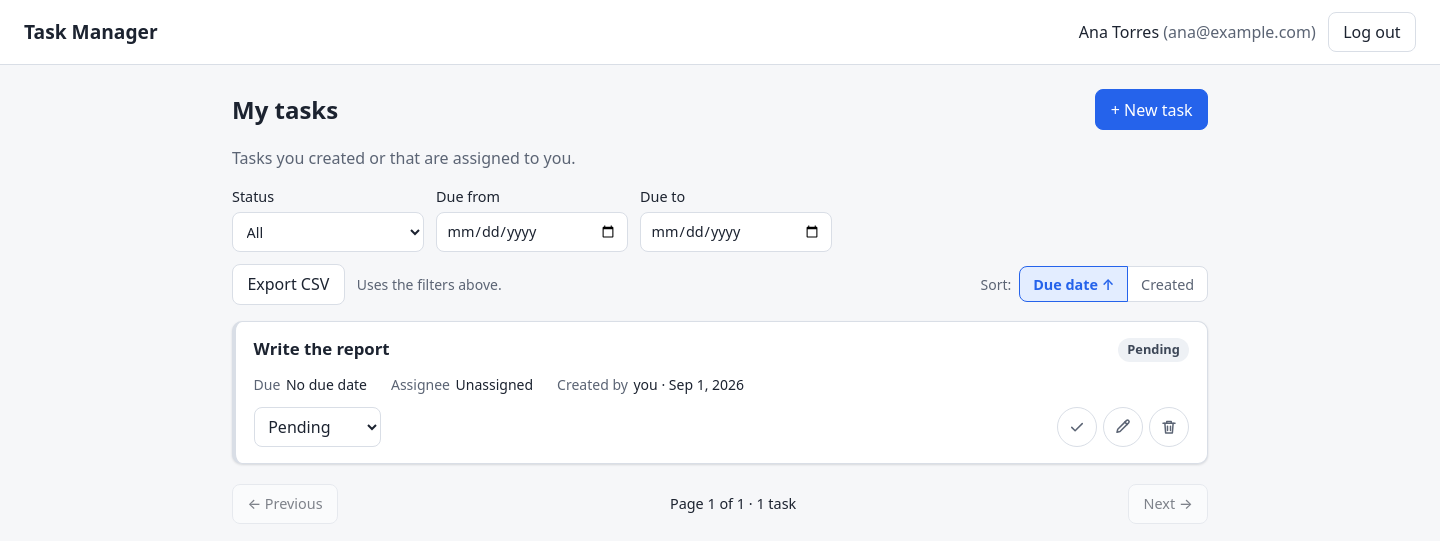
Test case: export polling › keeps polling after a failed status request
Click the button "Export CSV": (288,284) [232,264,345,305]
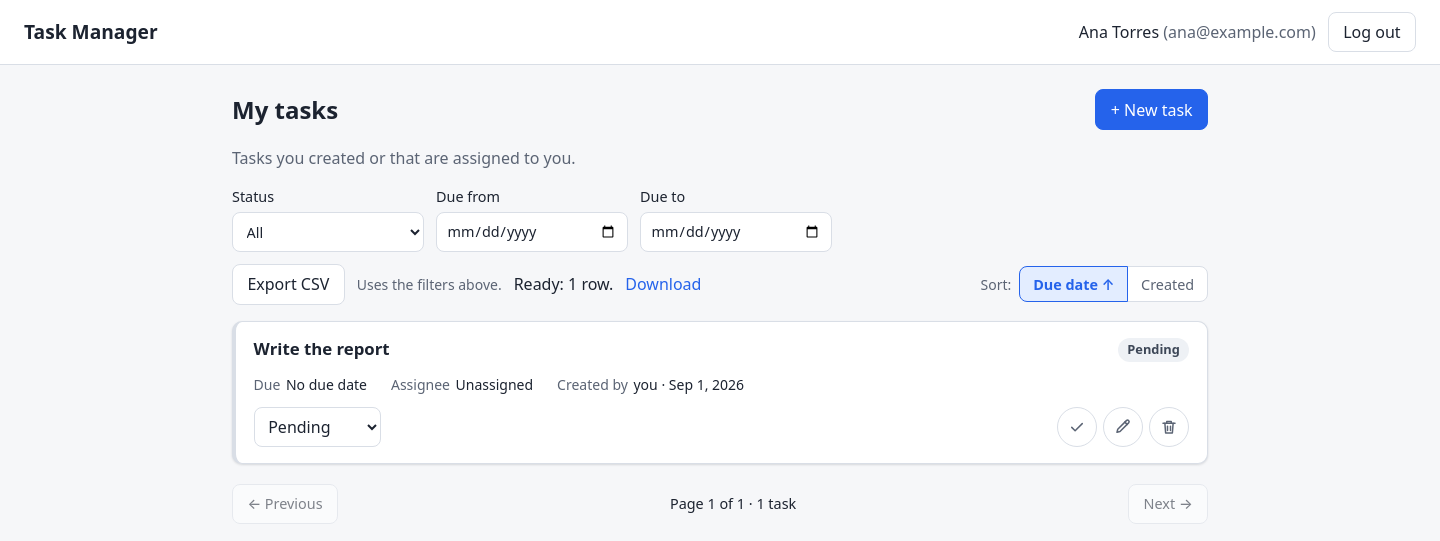
Expected: the text "Ready: 1 row." is shown, [514,272,613,296]
